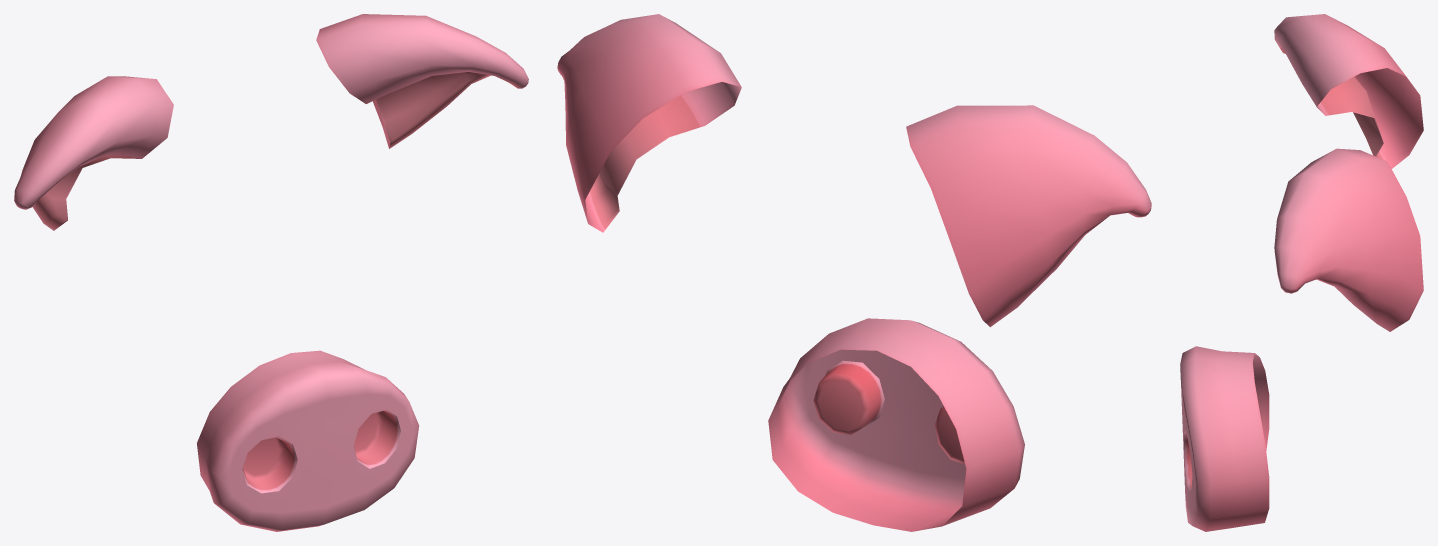
The model's file is AnimalFace_Pig_FBX_ForAR.fbx.
The picture shows the model from 3 angles, left to right: view 1: azimuth 30°, elevation 25°; view 2: azimuth 150°, elevation 25°; view 3: azimuth 270°, elevation 25°; orthographic projection. The views are drawn at different scales.
Parts seen in each view (by area): view 1: AnimalFace_Pig; view 2: AnimalFace_Pig; view 3: AnimalFace_Pig.
Part boxes in pixels (x1,y1,x2,y2): AnimalFace_Pig: (14,14,528,531); AnimalFace_Pig: (557,14,1151,531); AnimalFace_Pig: (1180,14,1423,531).
Size of the model in its own units: 94.03 by 74.62 by 39.32.
Materials: 1 (1 with a texture image).
